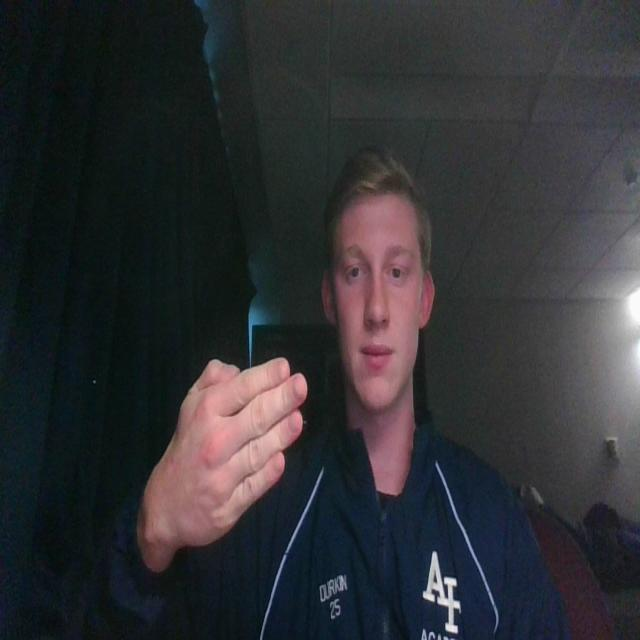paper: (136, 352, 313, 578)
